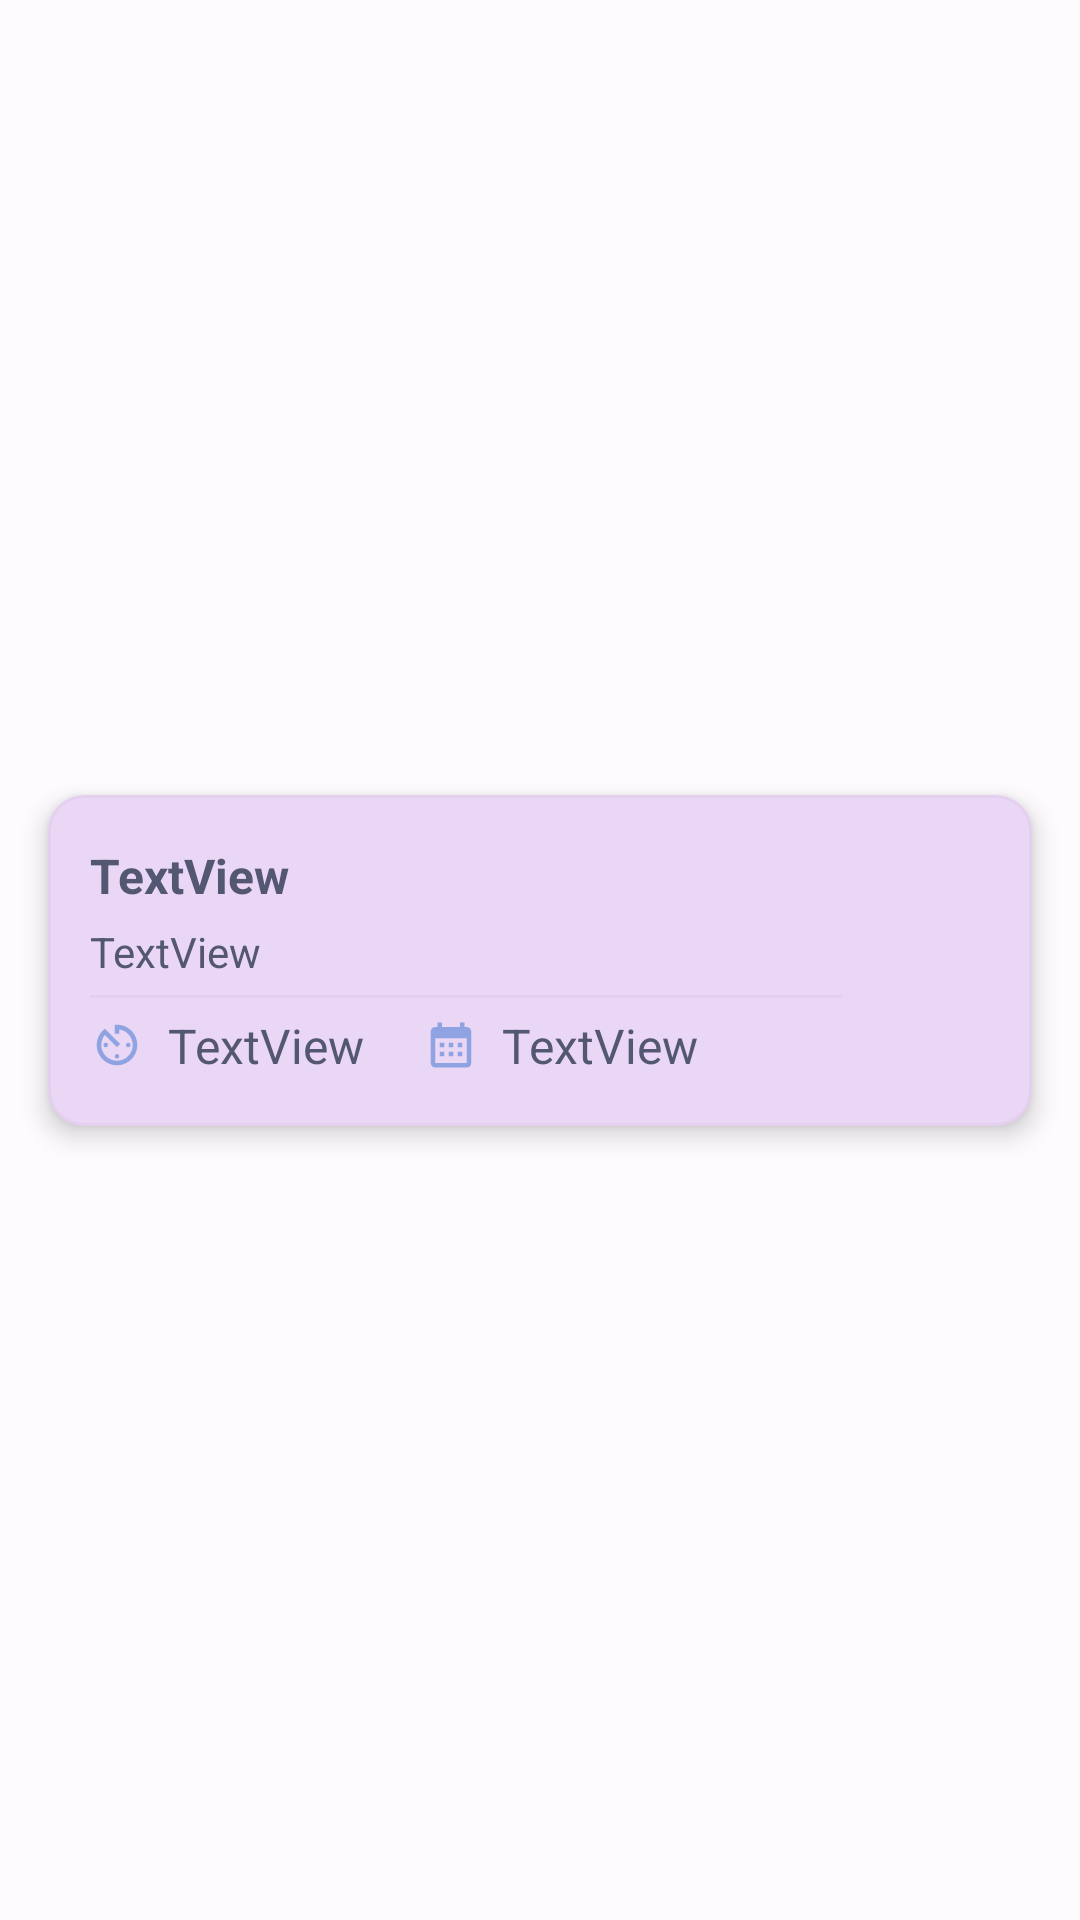

Named icons in this screenshot (1080 × 1920) and their centers, [x,y]:
calendar: [451,1045]
time format: [117,1045]
